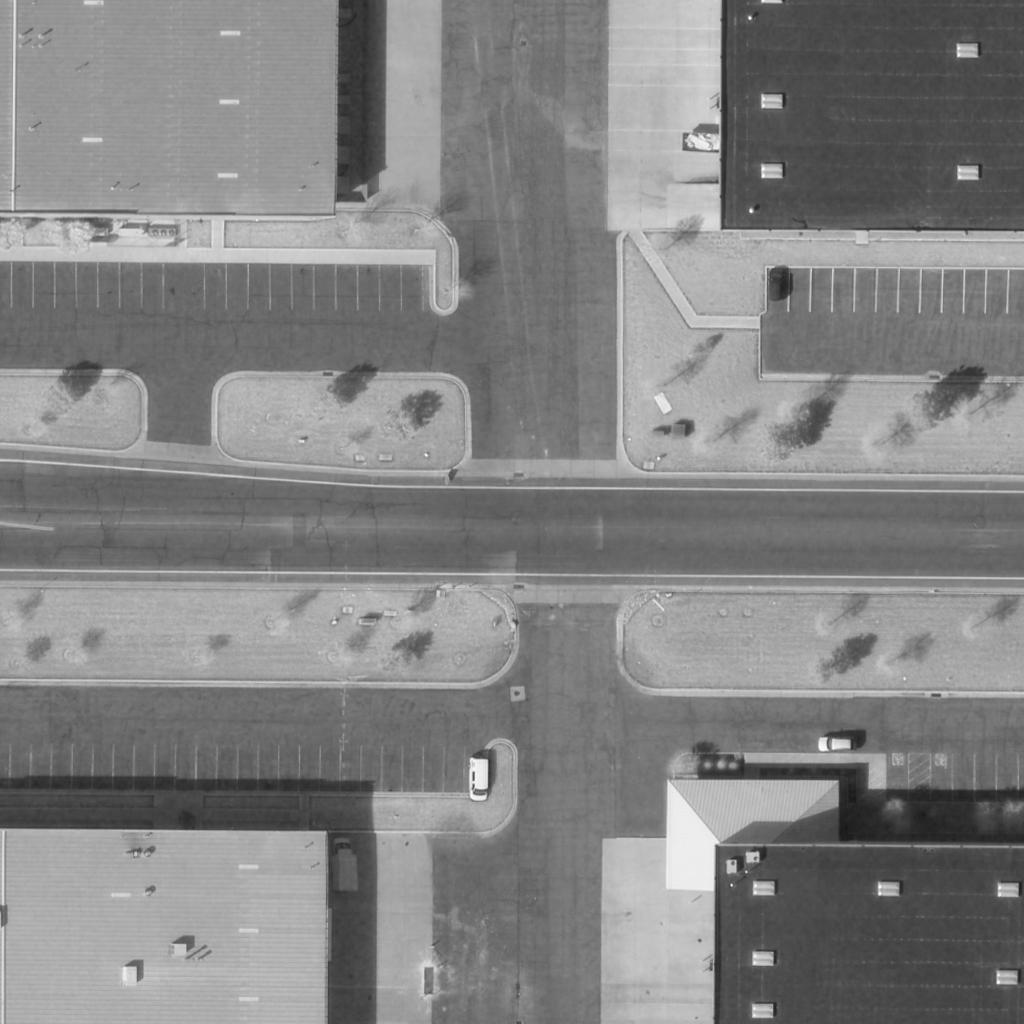vehicle: (332, 839, 360, 893), (470, 757, 490, 801), (817, 735, 859, 753), (769, 268, 787, 302)
